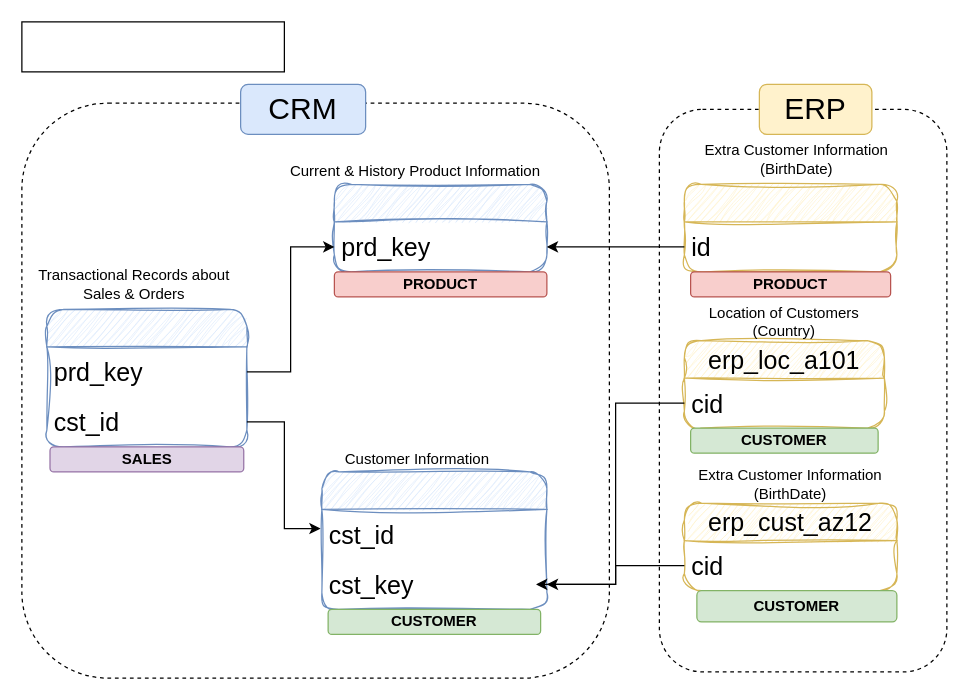
This 969x700 diagram has some shape labels left out. The shapes that lost their labels are listed below. From the top down, each one's box as (x1, y1, x2, y2) in pixels, then its label:
(21, 21, 284, 72): Integration Model
(333, 183, 547, 272): crm_prd_info
(683, 183, 897, 272): erp_px_cat_g1v2
(46, 308, 247, 447): crm_sales_details
(321, 471, 547, 609): crm_cust_info
